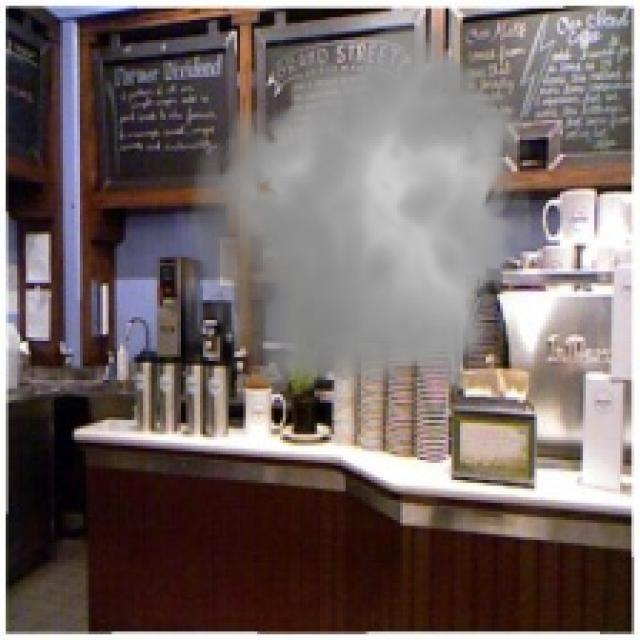Smoke: (177, 6, 546, 408)
